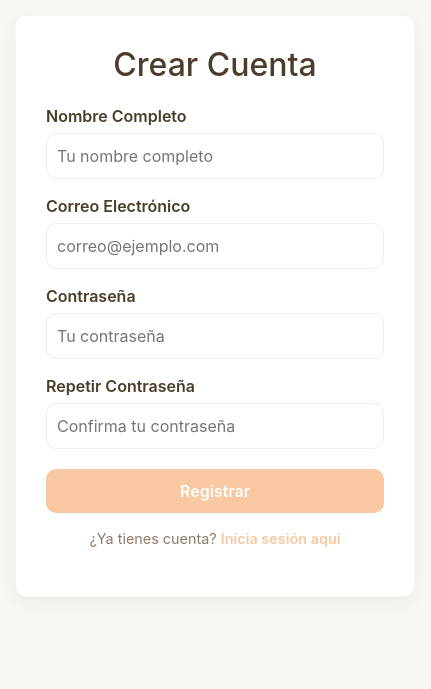
Componente Register › muestra error si las contraseñas no coinciden
Type "Test User" into the field labelled "Nombre Completo" at (215, 156), box [46,133,384,179]
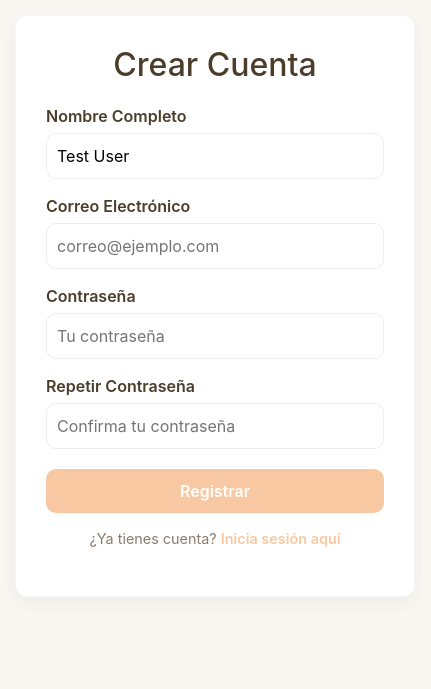
Type "test@example.com" into the field labelled "Correo Electrónico" at (215, 246), box [46,223,384,269]
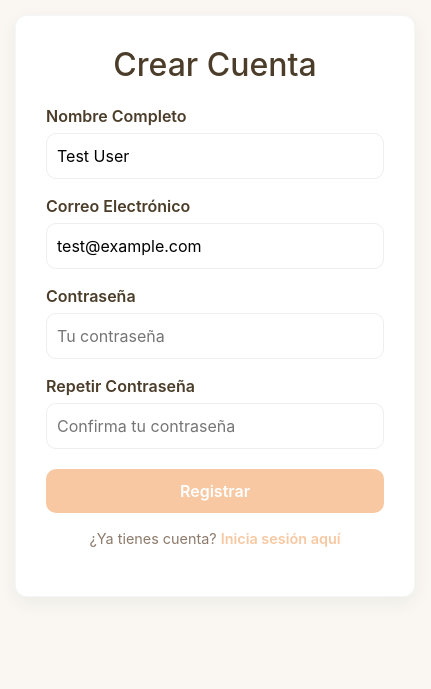
Type "abc" into the password field labelled "Contraseña" at (215, 336), box [46,313,384,359]
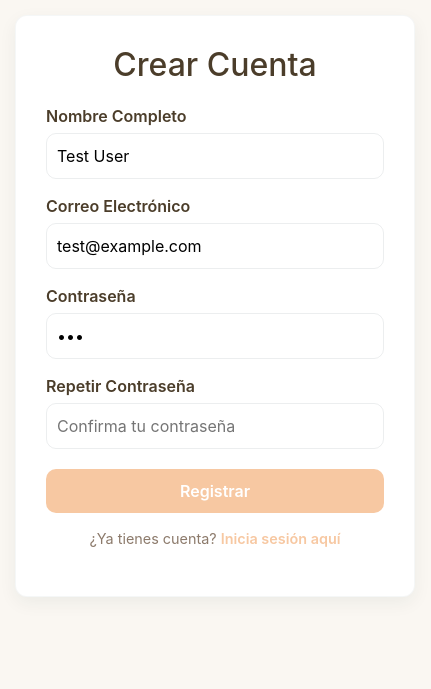
Type "def" into the password field labelled "Repetir Contraseña" at (215, 426), box [46,403,384,449]
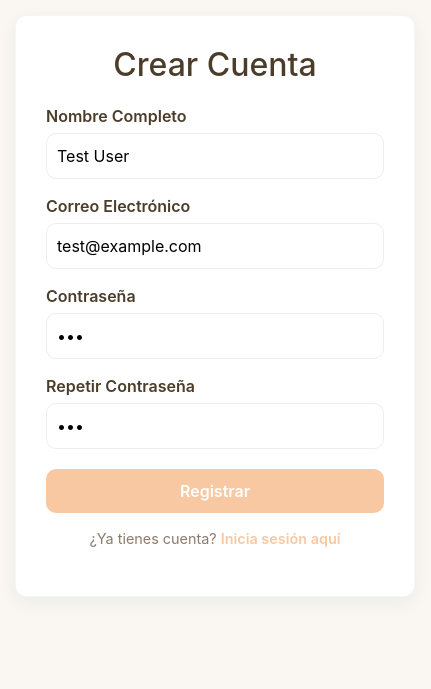
Click the button "Registrar" at (215, 491), box [46,469,384,513]
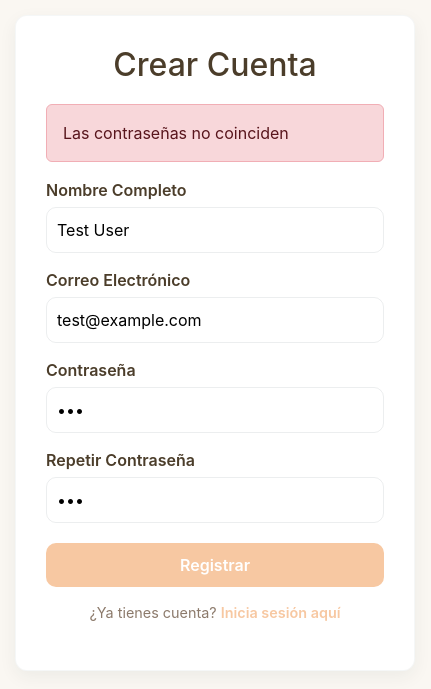
Expected: the text "Las contraseñas no coinciden" is shown, [46,104,384,162]
